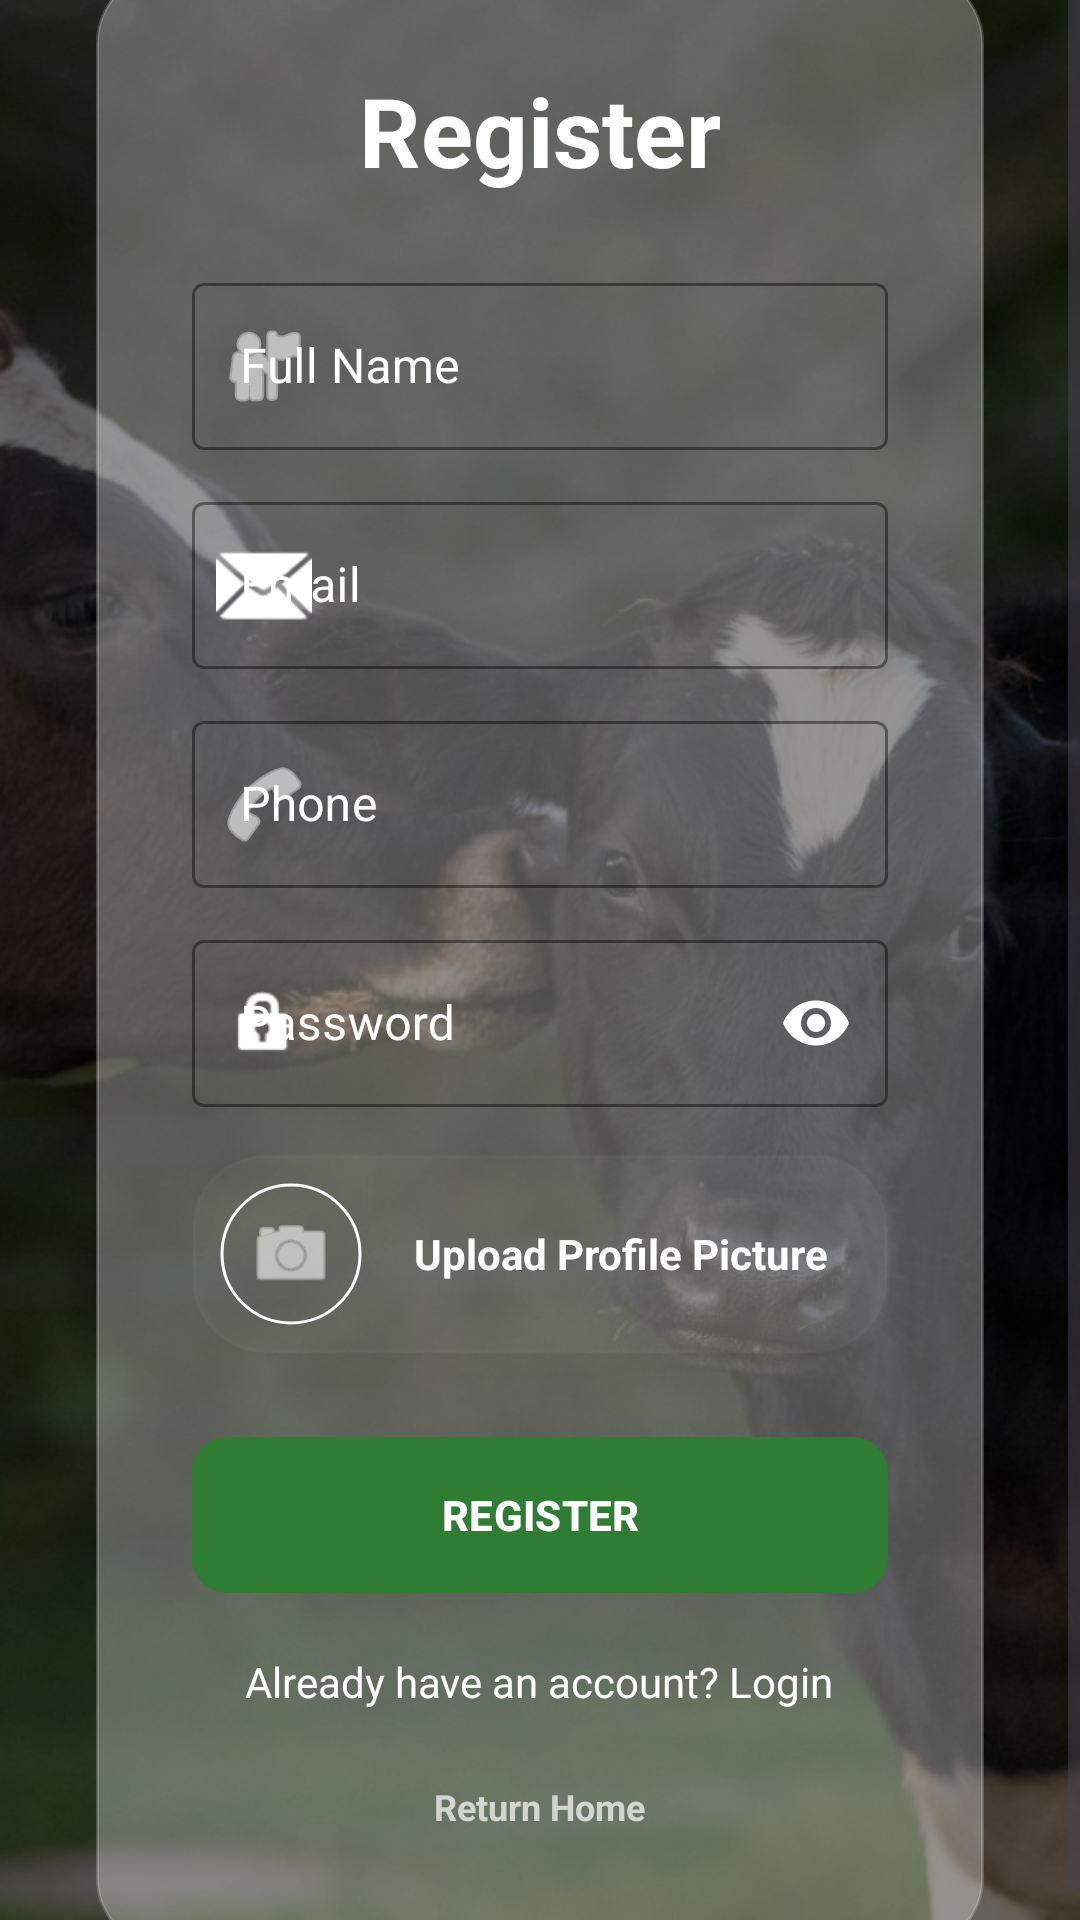

Screen size 1080x1920. Icon name, then its box in pixels as detection(x1, y1, x2, y2):
camera: detection(220, 1183, 362, 1325)
